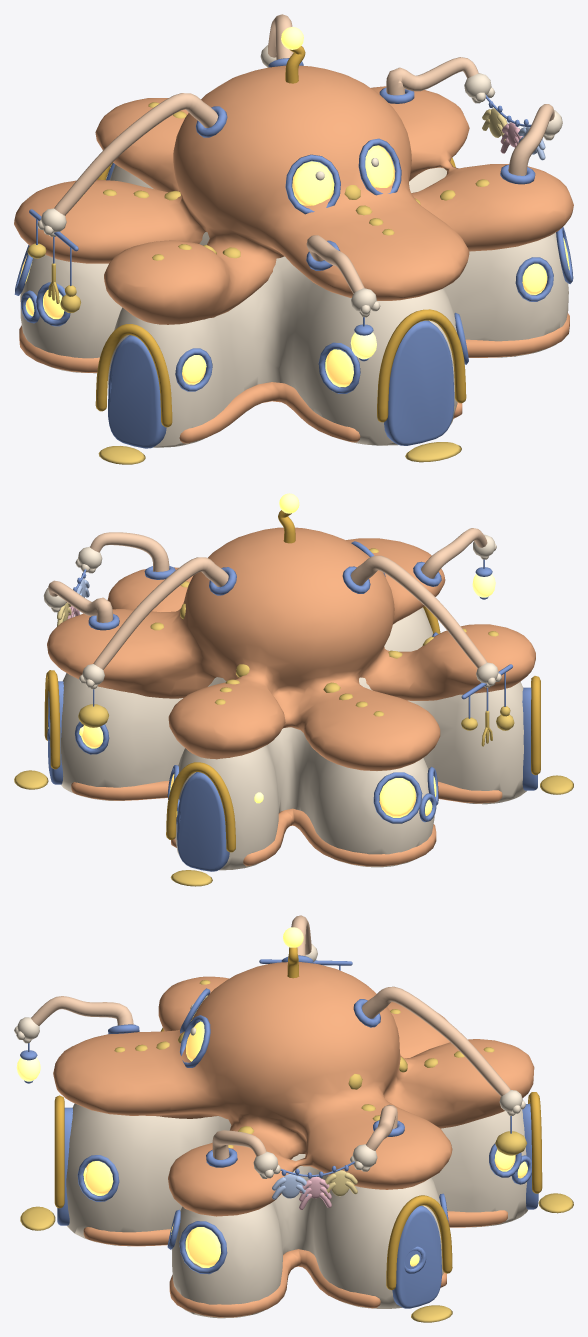
File: house_06_0603.fbx
3 views of the same model, one above another, from view 1: azimuth 30°, elevation 25°; view 2: azimuth 150°, elevation 25°; view 3: azimuth 270°, elevation 25° (orthographic). The views are drawn at different scales.
Visible parts, largest first — view 1: Tawan_RoofMantle, Tawan_Body, Tawan_Door_Main, Tawan_WindowRims, Tawan_BaseCushion, Tawan_Windows, Tawan_Door_FrontLeft, Tawan_Arm_ToolsL, Tawan_DoorRim_Main, Tawan_DoorRim_FrontLeft, Tawan_ArmHands, Tawan_Arm_ClothesB (+8 smaller); view 2: Tawan_RoofMantle, Tawan_Body, Tawan_BaseCushion, Tawan_Door_Back, Tawan_Arm_ToolsL, Tawan_Arm_ToolsBack, Tawan_WindowRims, Tawan_ArmHands, Tawan_DoorRim_Back, Tawan_Windows, Tawan_Arm_ClothesA, Tawan_Tools (+10 smaller); view 3: Tawan_RoofMantle, Tawan_Body, Tawan_BaseCushion, Tawan_WindowRims, Tawan_Door_BackRight, Tawan_Windows, Tawan_Arm_ToolsBack, Tawan_ArmHands, Tawan_DoorRim_BackRight, Tawan_Arm_Lantern, Tawan_DoorRim_Main, Tawan_RoofDots (+12 smaller).
Part boxes in pixels (x1,y1,x2,y2): Tawan_RoofMantle: (14, 65, 573, 324); Tawan_Body: (20, 164, 568, 447); Tawan_Door_Main: (384, 320, 454, 445); Tawan_WindowRims: (14, 138, 573, 393); Tawan_BaseCushion: (19, 313, 569, 443); Tawan_Windows: (20, 145, 569, 387); Tawan_Door_FrontLeft: (108, 335, 166, 448); Tawan_Arm_ToolsL: (54, 93, 218, 215); Tawan_DoorRim_Main: (377, 309, 466, 422); Tawan_DoorRim_FrontLeft: (95, 324, 172, 427); Tawan_ArmHands: (37, 45, 562, 317); Tawan_Arm_ClothesB: (386, 57, 478, 95); Tawan_RoofMantle: (47, 527, 535, 770); Tawan_Body: (61, 607, 526, 870); Tawan_BaseCushion: (71, 780, 502, 866); Tawan_Door_Back: (177, 772, 229, 871); Tawan_Arm_ToolsL: (350, 555, 487, 668); Tawan_Arm_ToolsBack: (93, 557, 228, 669); Tawan_WindowRims: (47, 541, 438, 824); Tawan_ArmHands: (43, 534, 501, 689); Tawan_DoorRim_Back: (166, 762, 235, 852); Tawan_Windows: (48, 725, 436, 817); Tawan_Arm_ClothesA: (90, 532, 169, 571); Tawan_Tools: (78, 704, 514, 746); Tawan_RoofMantle: (53, 962, 534, 1216); Tawan_Body: (66, 1103, 527, 1318); Tawan_BaseCushion: (83, 1210, 507, 1317); Tawan_WindowRims: (77, 988, 531, 1274); Tawan_Door_BackRight: (392, 1205, 441, 1308); Tawan_Windows: (83, 995, 527, 1267); Tawan_Arm_ToolsBack: (362, 986, 510, 1096); Tawan_ArmHands: (14, 943, 525, 1178); Tawan_DoorRim_BackRight: (386, 1195, 452, 1290); Tawan_Arm_Lantern: (31, 996, 133, 1025); Tawan_DoorRim_Main: (54, 1095, 64, 1208); Tawan_RoofDots: (114, 980, 494, 1148).
Bounding box in the file's own units: 6.61 × 3.98 × 6.95.
